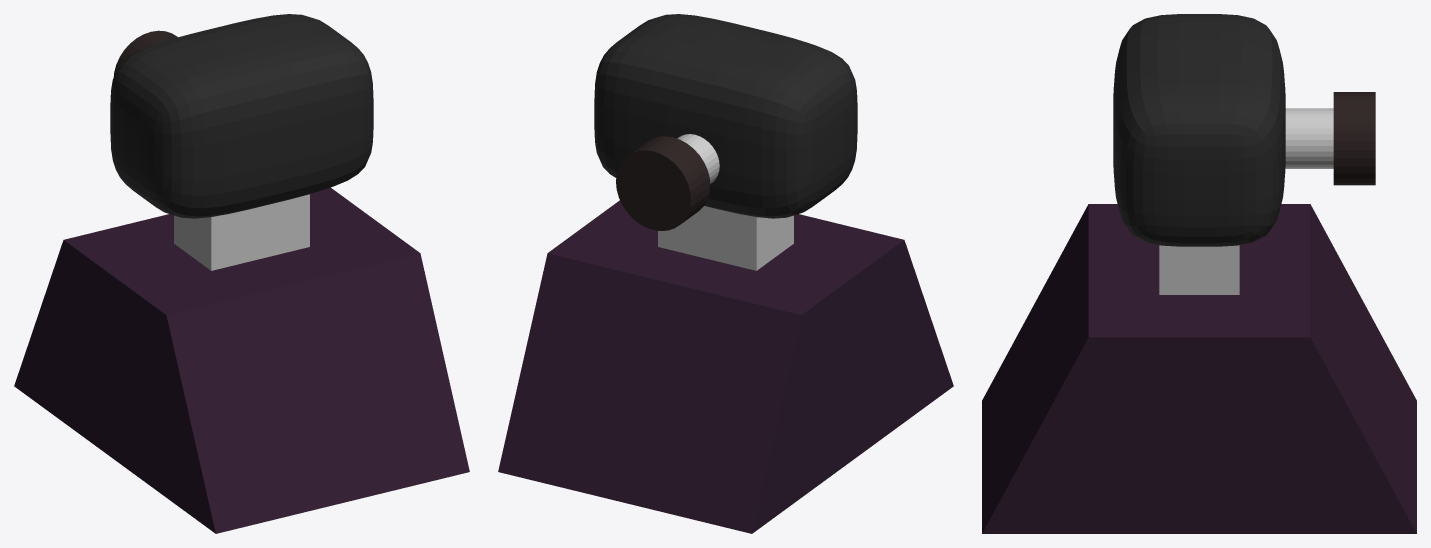
The model's file is bot.obj.
The picture shows the model from 3 angles, left to right: view 1: azimuth 30°, elevation 25°; view 2: azimuth 150°, elevation 25°; view 3: azimuth 270°, elevation 25°; orthographic projection. The views are drawn at different scales.
Parts seen in each view (by area): view 1: robot_Cube_Cube.2452; view 2: robot_Cube_Cube.2452; view 3: robot_Cube_Cube.2452.
Boxes of the visible parts, <box> form: robot_Cube_Cube.2452: <box>14,14,469,533</box>; robot_Cube_Cube.2452: <box>498,14,953,533</box>; robot_Cube_Cube.2452: <box>982,14,1416,533</box>.
Size of the model in its own units: 1.45 by 2.11 by 2.
